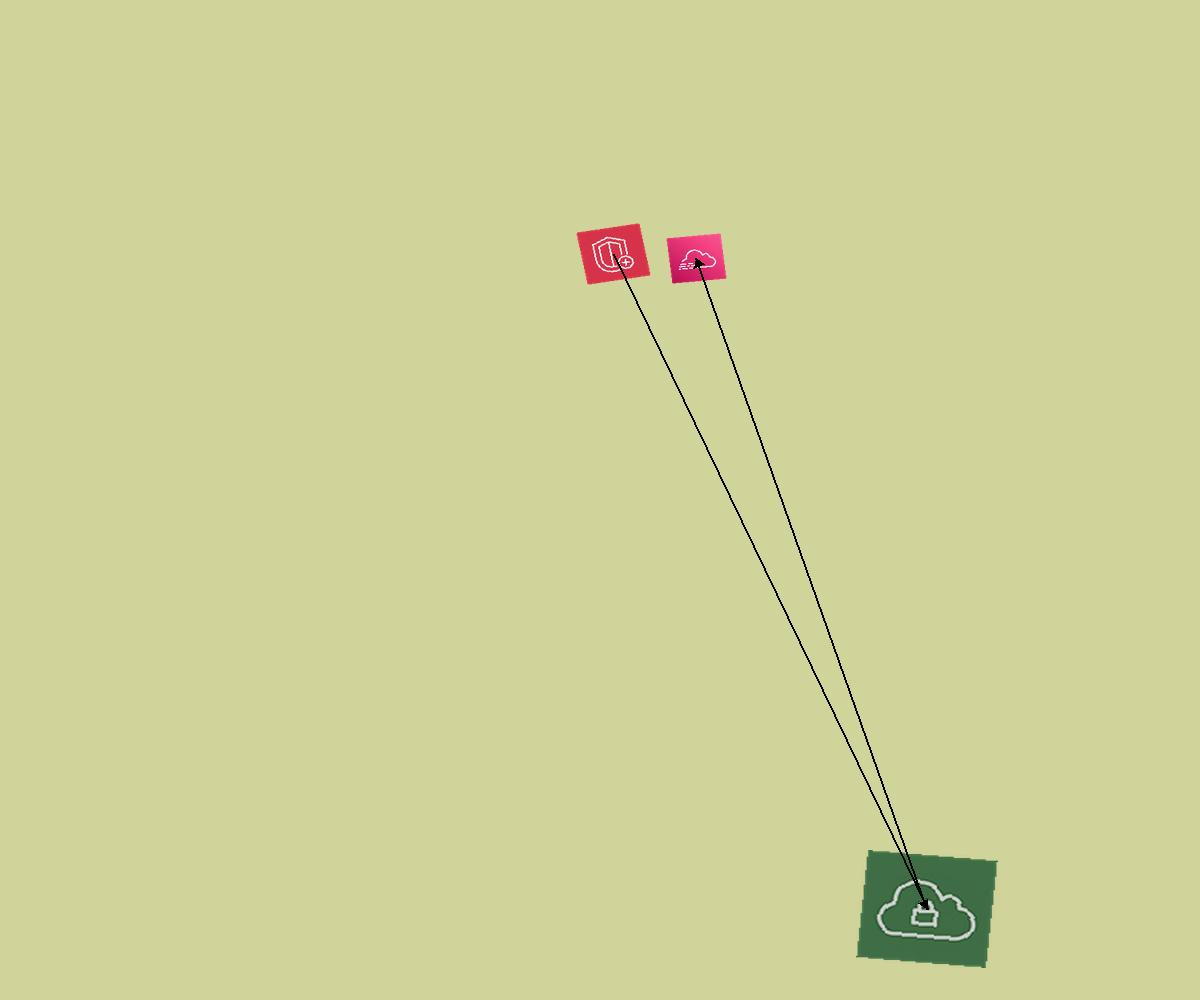AWS-CloudTrail: (666, 233, 727, 284)
AWS-Private_vpc: (856, 850, 998, 968)
AWS-Shield: (576, 223, 651, 285)
